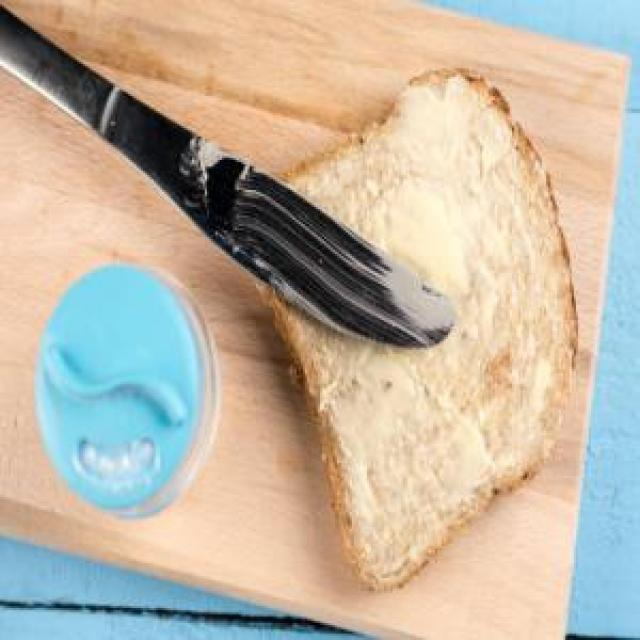knife: (0, 0, 459, 354)
